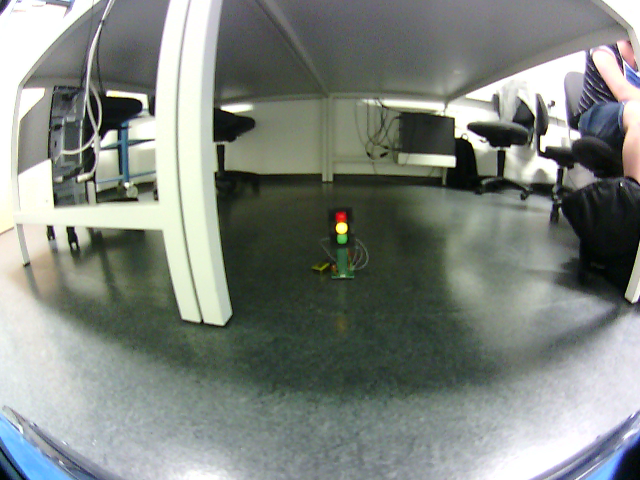yellow trafficlight: (331, 209, 350, 250)
